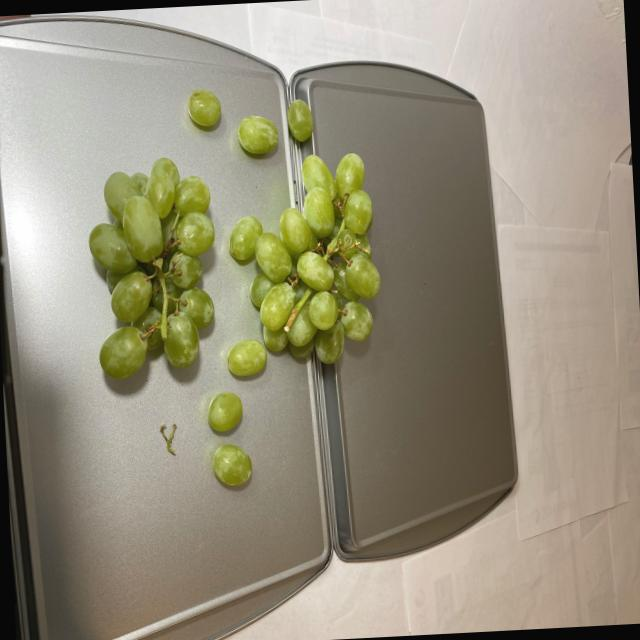grapes: (78, 84, 390, 497)
